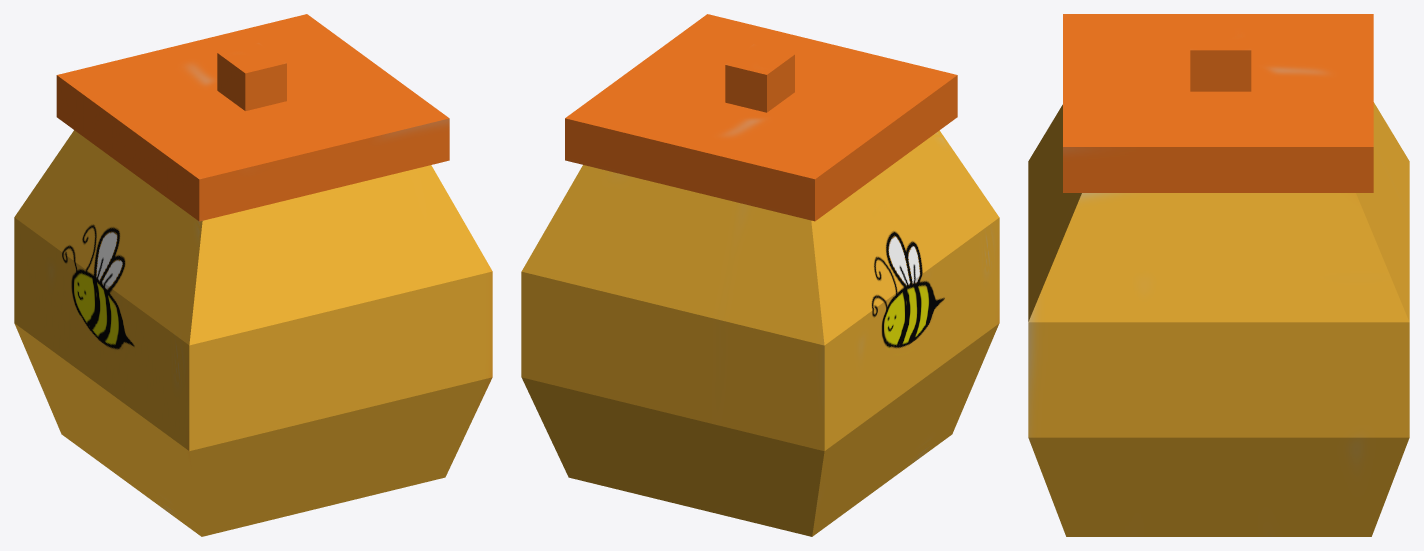
File: HoneyPot.fbx
The picture shows the model from 3 angles, left to right: view 1: azimuth 30°, elevation 25°; view 2: azimuth 150°, elevation 25°; view 3: azimuth 270°, elevation 25°; orthographic projection. The views are drawn at different scales.
Visible parts, largest first — view 1: Cube; view 2: Cube; view 3: Cube.
Boxes of the visible parts, <box> form: Cube: <box>14,14,492,536</box>; Cube: <box>521,14,999,536</box>; Cube: <box>1028,14,1409,536</box>.
Bounding box in the file's own units: 200 × 250 × 200.
